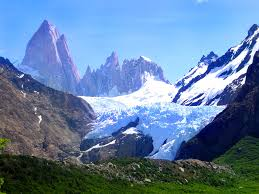mountain: (7, 25, 258, 188)
